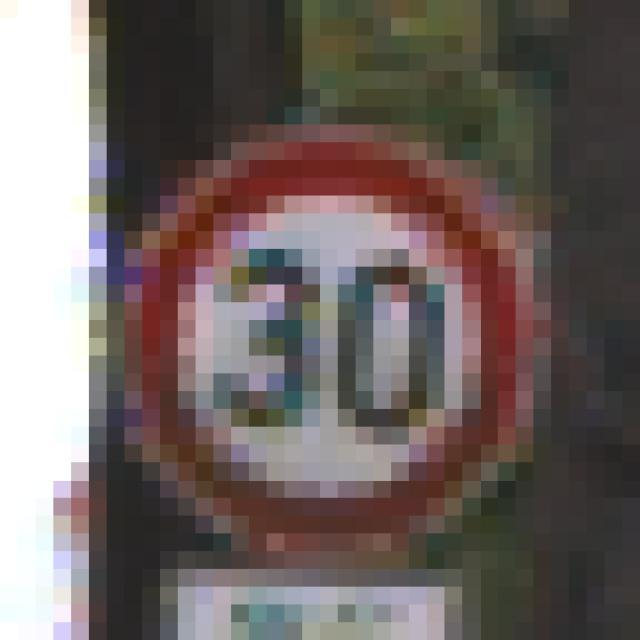Speed Limit -30-: (80, 98, 524, 542)
